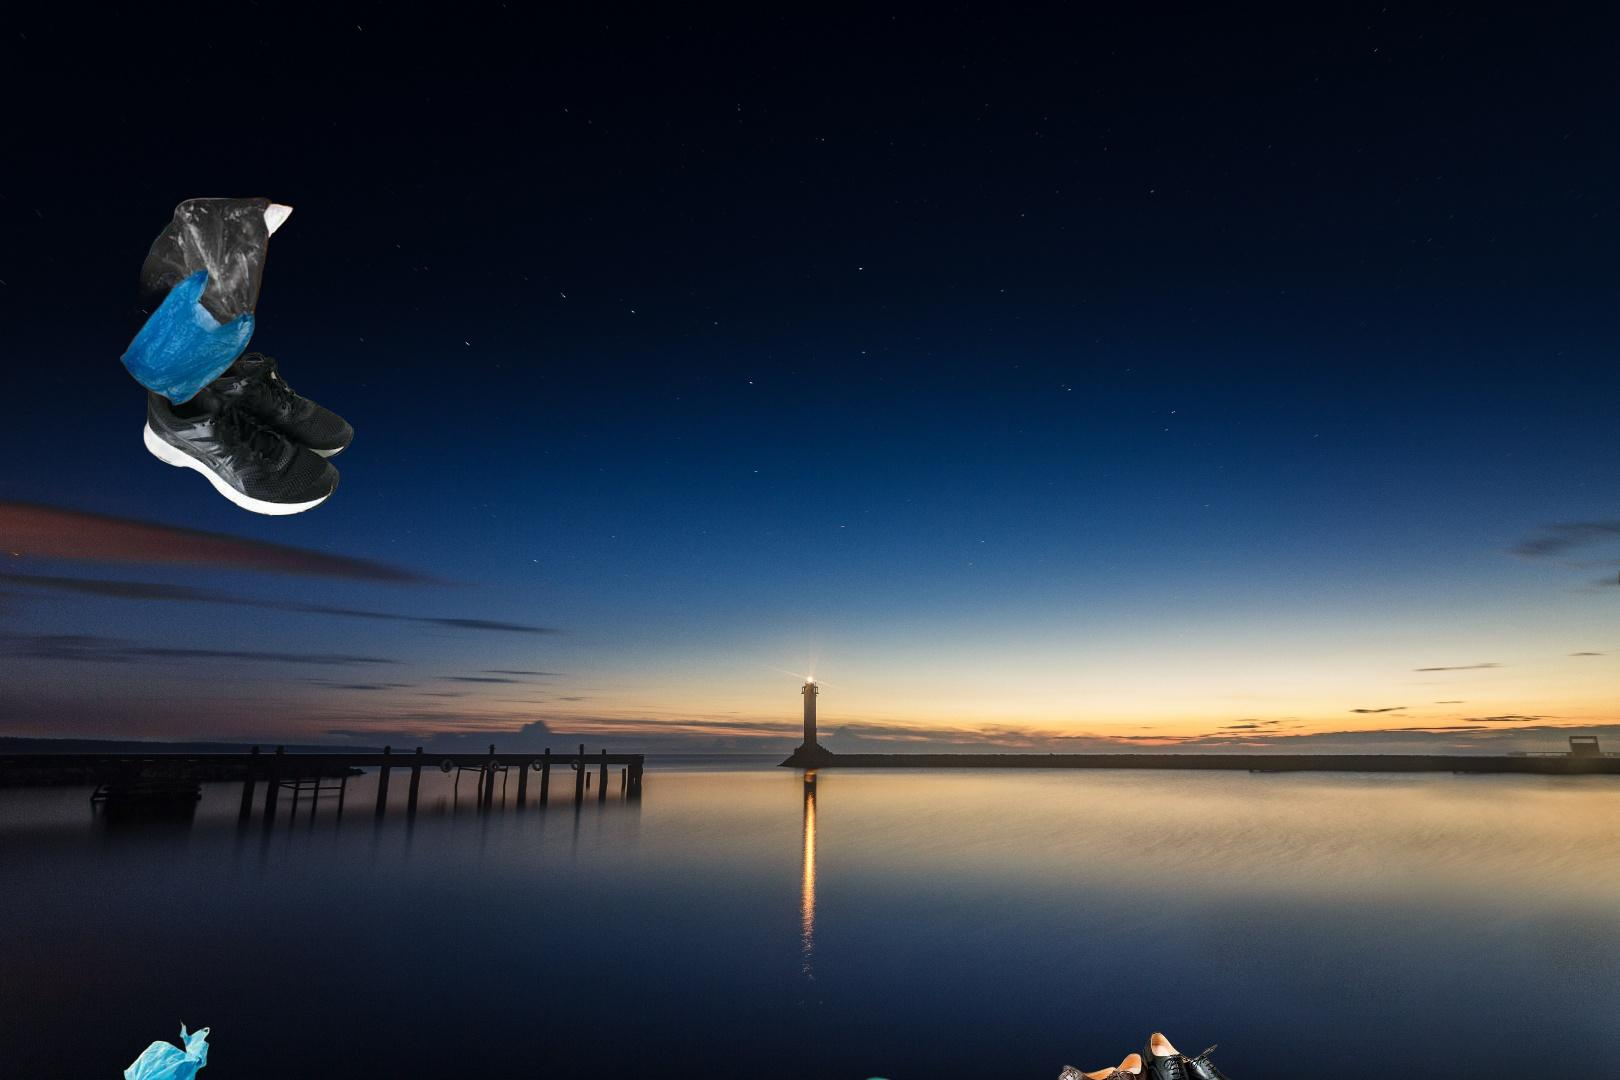plastic-bag: (117, 195, 297, 409), (90, 1015, 213, 1080)
plastic-bottles: (764, 1072, 931, 1080)
shoes: (141, 340, 354, 522), (1004, 1026, 1263, 1080), (1616, 432, 1620, 607)
